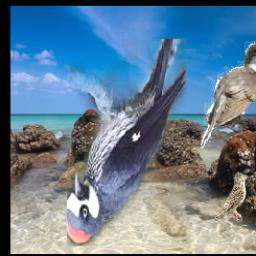Cuckoo: (201, 42, 256, 149)
Sparrow: (213, 172, 248, 222)
Woodpecker: (66, 39, 186, 246)
